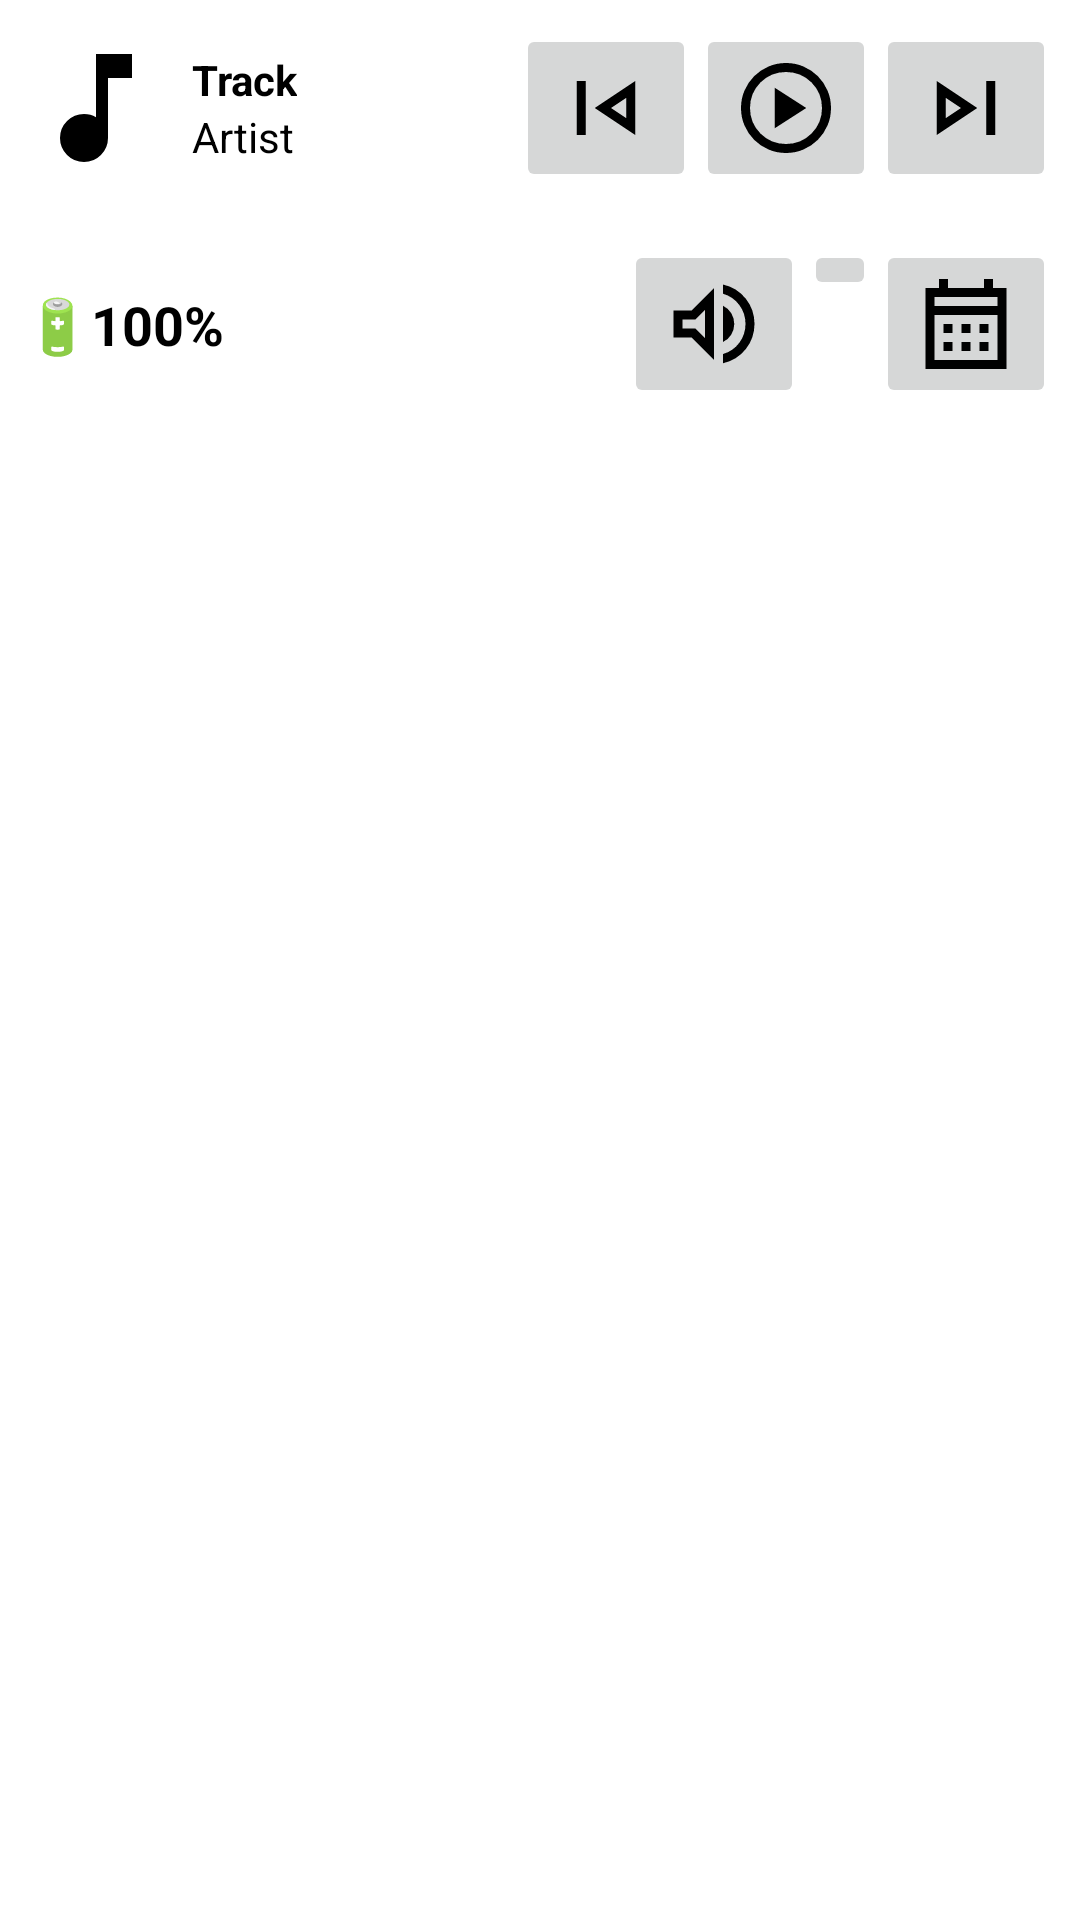

Screen size 1080×1920. Icon name, then its center in pixels as point (x, y):
Fetch Calendar Events: point (966, 324)
music note: point (96, 108)
Mute/Unmute: point (714, 324)
Next: point (966, 108)
Play/Pause: point (786, 108)
Previous: point (606, 108)
